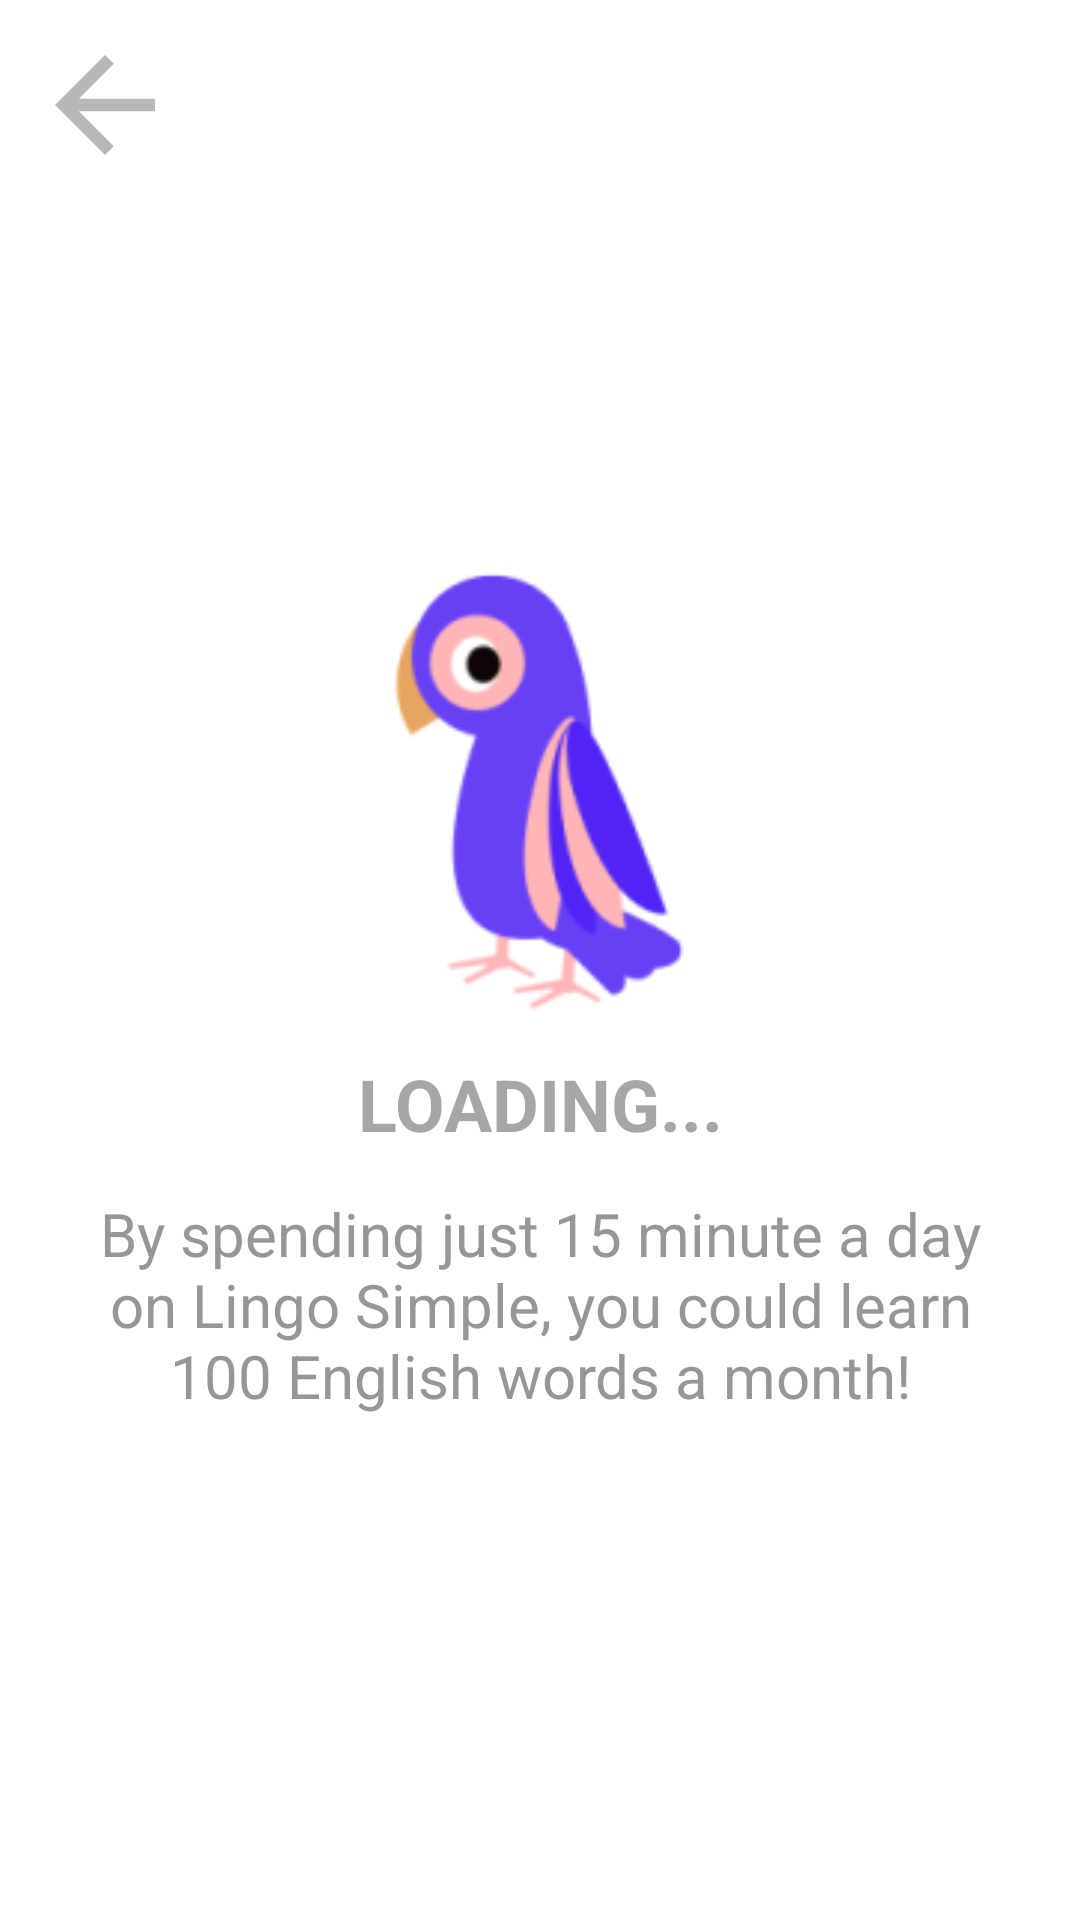

Icon click points for this 1080 x 1920 phone screenshot, format (x,y):
arrow back: (105,105)
